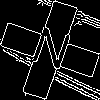N: (25, 25, 75, 80)
